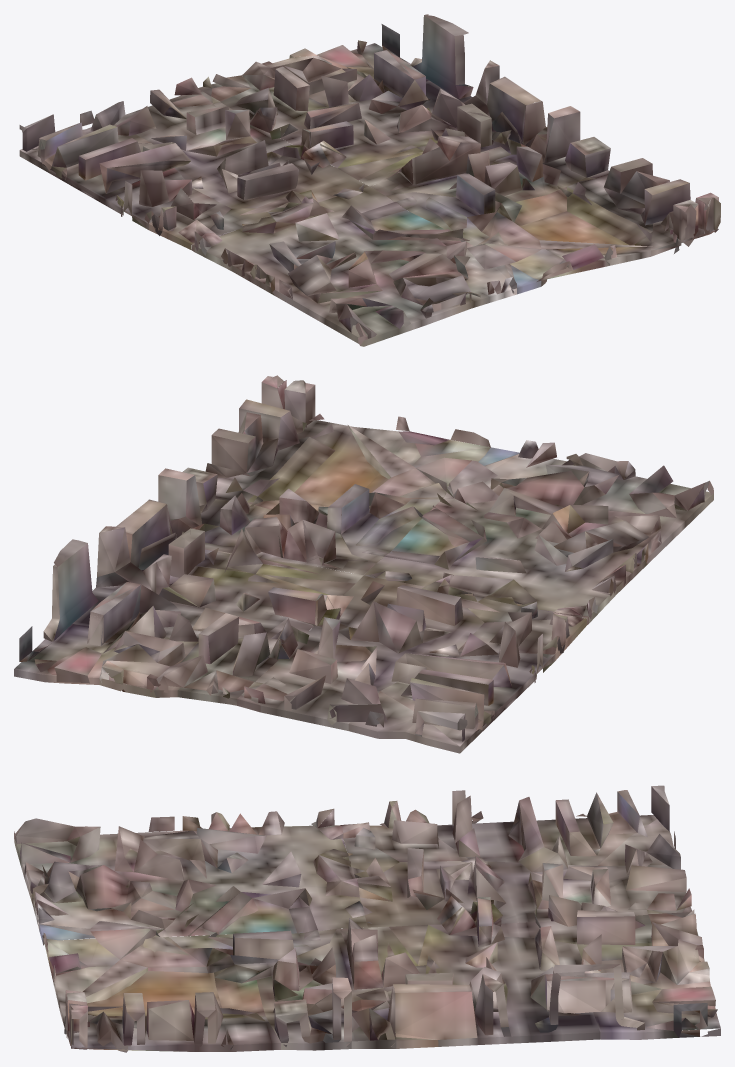
3 views of the same model, one above another, from view 1: azimuth 30°, elevation 25°; view 2: azimuth 150°, elevation 25°; view 3: azimuth 270°, elevation 25° (orthographic). The views are drawn at different scales.
Visible parts, largest first — view 1: Mesh_0; view 2: Mesh_0; view 3: Mesh_0.
Boxes of the visible parts, <box> form: Mesh_0: <box>19,14,720,346</box>; Mesh_0: <box>14,375,713,753</box>; Mesh_0: <box>14,785,720,1052</box>.
Size of the model in its own units: 542 by 76.79 by 660.
2 materials, 2 textured.
